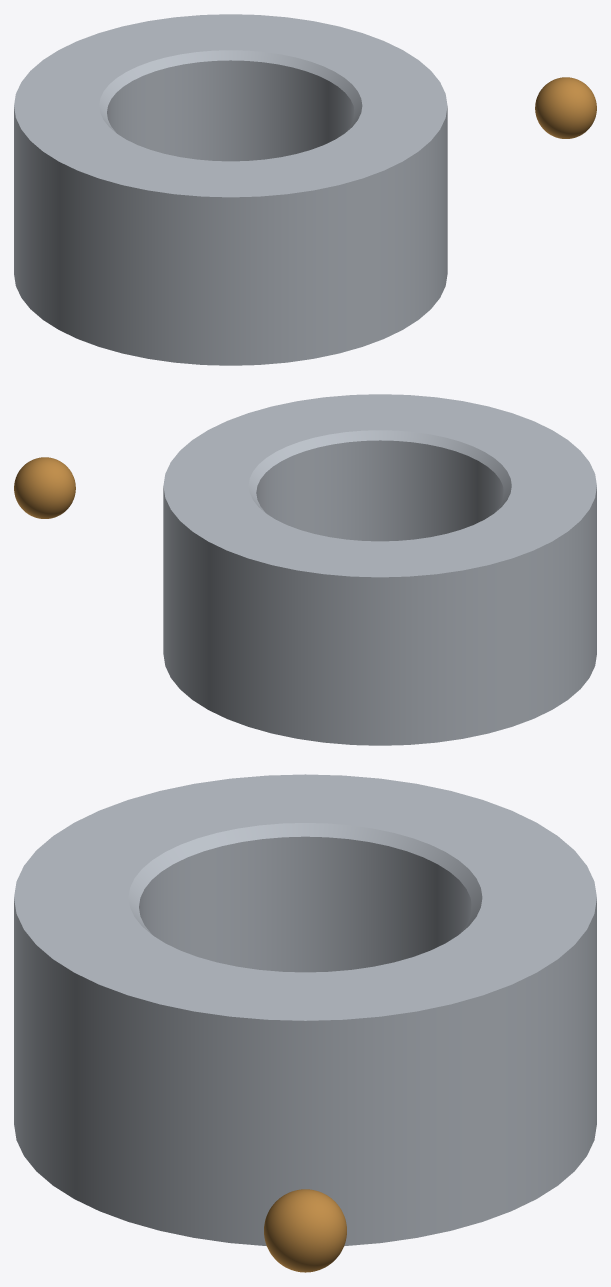
The model's file is default-blender.glb.
The picture shows the model from 3 angles, top to bottom: view 1: azimuth 30°, elevation 25°; view 2: azimuth 150°, elevation 25°; view 3: azimuth 270°, elevation 25°; orthographic projection. The views are drawn at different scales.
Parts seen in each view (by area): view 1: bushing, preserved; view 2: bushing, preserved; view 3: bushing, preserved.
Part boxes in pixels (bbox=[...]): bushing: bbox=[14, 14, 447, 365]; preserved: bbox=[535, 77, 596, 138]; bushing: bbox=[163, 394, 596, 745]; preserved: bbox=[14, 457, 75, 518]; bushing: bbox=[14, 774, 596, 1245]; preserved: bbox=[264, 1189, 346, 1272].
Bounding box in the file's own units: 0.041 × 0.012 × 0.028.
